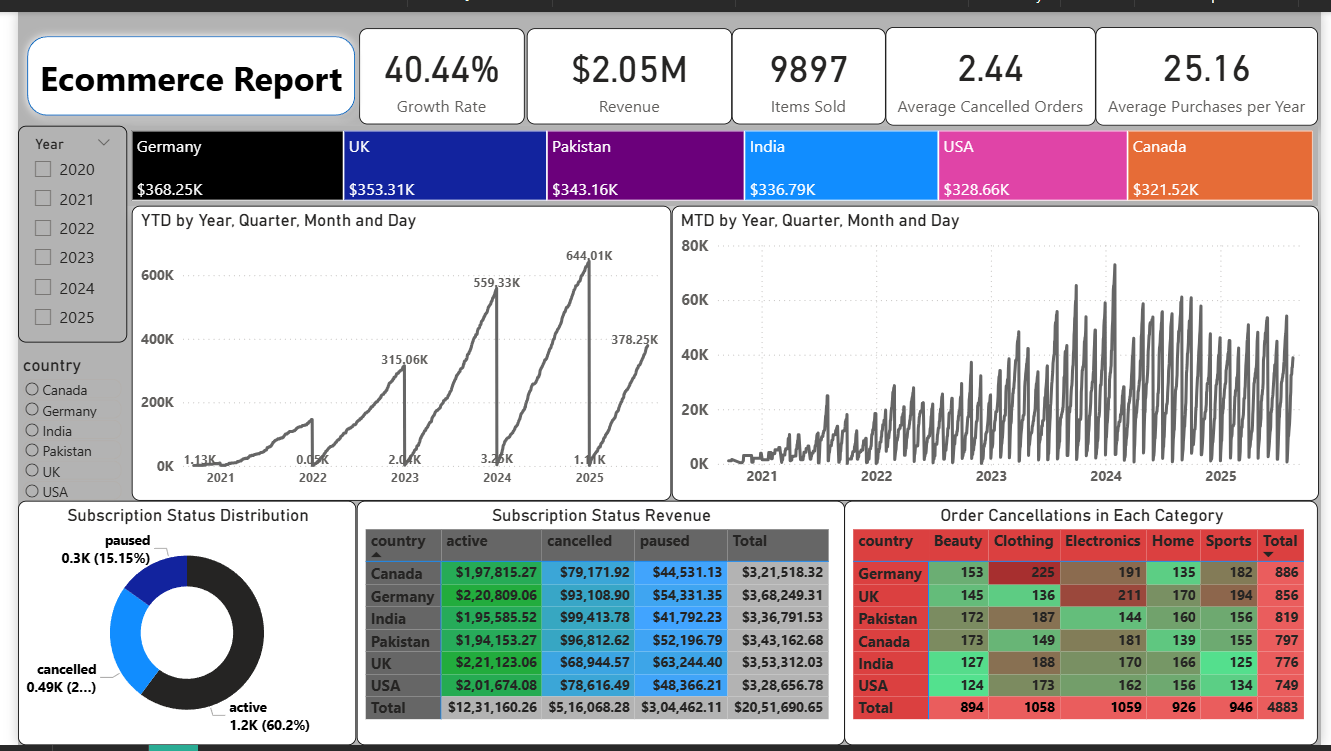

The dashboard page shown, as its layout file describes it:
{"tool":"powerbi","page":{"name":"Page 1","canvas":[1280,720],"ordinal":0},"visuals":[{"type":"card","fields":{"Values":["Avg(Ecommerce.cancellations_count)"]},"box":[851.5,14.7,206.1,96.9],"z":0},{"type":"card","fields":{"Values":["Avg(Ecommerce.purchase_frequency)"]},"box":[1057.7,14.7,218.4,96.9],"z":1000},{"type":"card","fields":{"Values":["Sum(Ecommerce.Revenue)"]},"box":[499.5,16.5,201.7,94.7],"z":2000},{"type":"card","fields":{"Values":["Sum(Ecommerce.quantity)"]},"box":[701.2,16.5,150.9,94.7],"z":3000},{"type":"treemap","fields":{"Group":["Ecommerce.country"],"Values":["Sum(Ecommerce.Revenue)"]},"box":[106.7,111.7,1169.3,78.5],"z":4000},{"type":"pivotTable","title":"Order Cancellations in Each Category","fields":{"Rows":["Ecommerce.country"],"Values":["Sum(Ecommerce.cancellations_count)"],"Columns":["Ecommerce.category"]},"box":[811,480.3,465.2,240.1],"z":5000},{"type":"lineChart","fields":{"Y":["Ecommerce.MTD"],"Category":["Calendar.Date.Variation.Date Hierarchy.Year","Calendar.Date.Variation.Date Hierarchy.Quarter","Calendar.Date.Variation.Date Hierarchy.Month","Calendar.Date.Variation.Date Hierarchy.Day"]},"box":[642.2,190.7,635,289.5],"z":6000},{"type":"lineChart","fields":{"Y":["Ecommerce.YTD"],"Category":["Calendar.Date.Variation.Date Hierarchy.Year","Calendar.Date.Variation.Date Hierarchy.Quarter","Calendar.Date.Variation.Date Hierarchy.Month","Calendar.Date.Variation.Date Hierarchy.Day"]},"box":[112,190.7,529.7,289.5],"z":7000},{"type":"slicer","fields":{"Values":["Calendar.Year"]},"box":[0,123.9,106.7,212.3],"z":8000},{"type":"card","fields":{"Values":["Ecommerce.Growth Rate"]},"box":[335,16.5,162,94.7],"z":9000},{"type":"pivotTable","title":"Subscription Status Revenue","fields":{"Rows":["Ecommerce.country"],"Values":["Sum(Ecommerce.Revenue)"],"Columns":["Ecommerce.subscription_status"]},"box":[332.1,480.3,478.9,240.1],"z":10000},{"type":"donutChart","title":"Subscription Status Distribution","fields":{"Category":["Ecommerce.subscription_status"],"Y":["CountNonNull(Ecommerce.subscription_status)"]},"box":[0,480.3,332.1,240.1],"z":11000},{"type":"listSlicer","fields":{"Values":["Ecommerce.country"]},"box":[0,336.2,107,192.1],"z":12000},{"type":"shape","box":[0,15.1,340,96.1],"z":13000}]}

Visuals, with their boxes in screenshot pixels (x1, y1, x2, y2), scaled from the page's 1280x720 canvas onto the 1331x751 screenshot:
card - Avg(Ecommerce.cancellations_count): detection(885, 15, 1100, 116)
card - Avg(Ecommerce.purchase_frequency): detection(1100, 15, 1327, 116)
card - Sum(Ecommerce.Revenue): detection(519, 17, 729, 116)
card - Sum(Ecommerce.quantity): detection(729, 17, 886, 116)
treemap - Ecommerce.country x Sum(Ecommerce.Revenue): detection(111, 117, 1327, 198)
"Order Cancellations in Each Category" pivotTable: detection(843, 501, 1327, 750)
lineChart - Ecommerce.MTD x Calendar.Date.Variation.Date Hierarchy.Year: detection(668, 199, 1328, 501)
lineChart - Ecommerce.YTD x Calendar.Date.Variation.Date Hierarchy.Year: detection(116, 199, 667, 501)
slicer - Calendar.Year: detection(0, 129, 111, 351)
card - Ecommerce.Growth Rate: detection(348, 17, 517, 116)
"Subscription Status Revenue" pivotTable: detection(345, 501, 843, 750)
"Subscription Status Distribution" donutChart: detection(0, 501, 345, 750)
listSlicer - Ecommerce.country: detection(0, 351, 111, 551)
shape: detection(0, 16, 354, 116)
